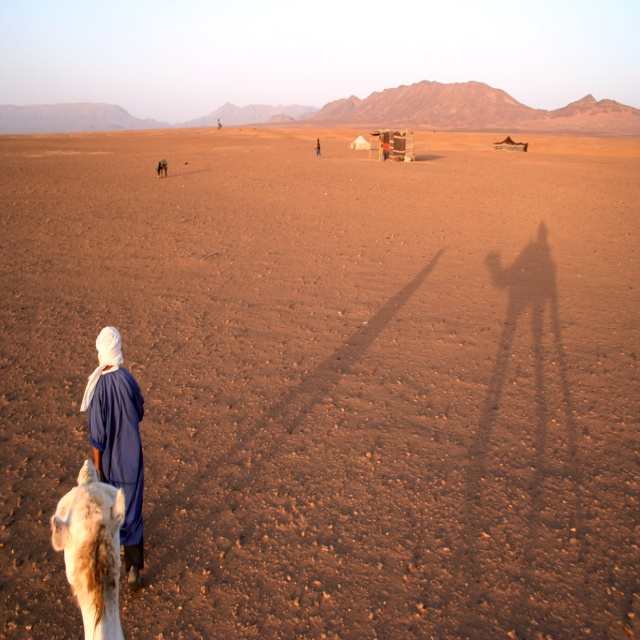Camel: (52, 459, 126, 639)
